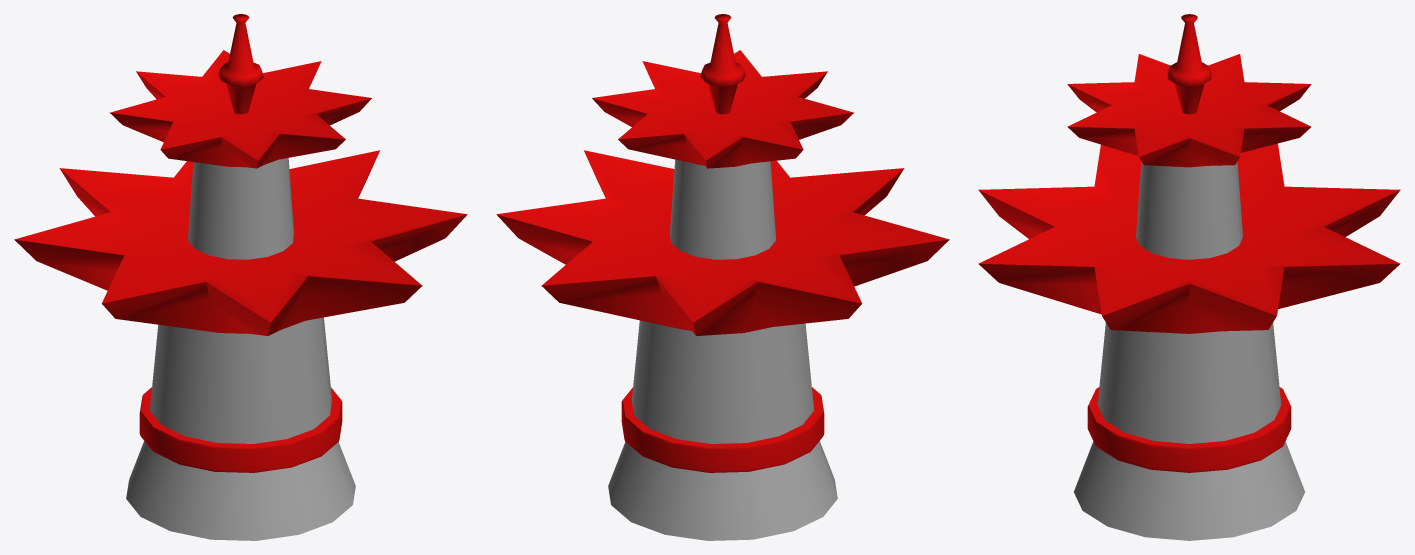
File: Naverwie_cvetok_kaktusa.fbx
3 renders of one model, left to right at view 1: azimuth 30°, elevation 25°; view 2: azimuth 150°, elevation 25°; view 3: azimuth 270°, elevation 25°, orthographic.
Parts seen in each view (by area): view 1: naverwie_cvetok_kaktusa; view 2: naverwie_cvetok_kaktusa; view 3: naverwie_cvetok_kaktusa.
Part boxes in pixels (x1,y1,x2,y2): naverwie_cvetok_kaktusa: (14, 14, 467, 540); naverwie_cvetok_kaktusa: (496, 14, 949, 540); naverwie_cvetok_kaktusa: (978, 14, 1400, 540).
Bounding box in the file's own units: 6.48 × 8.03 × 6.48.
